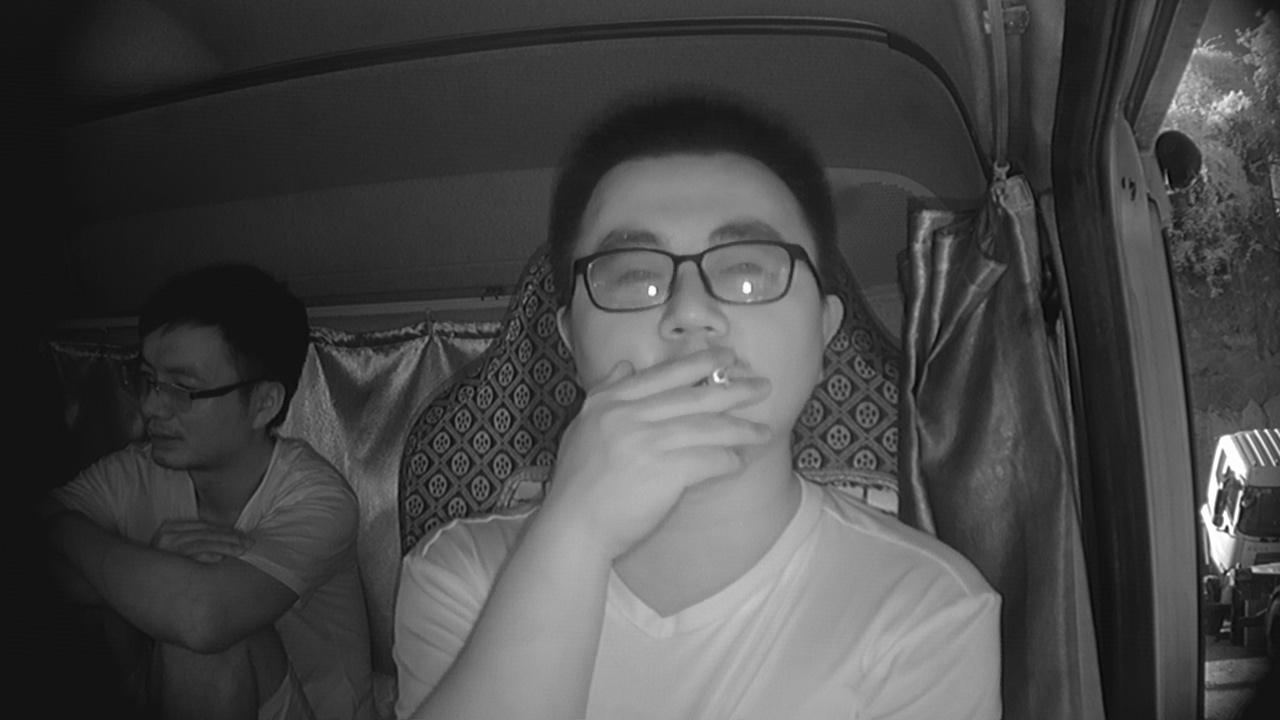hand: (624, 344, 748, 499)
